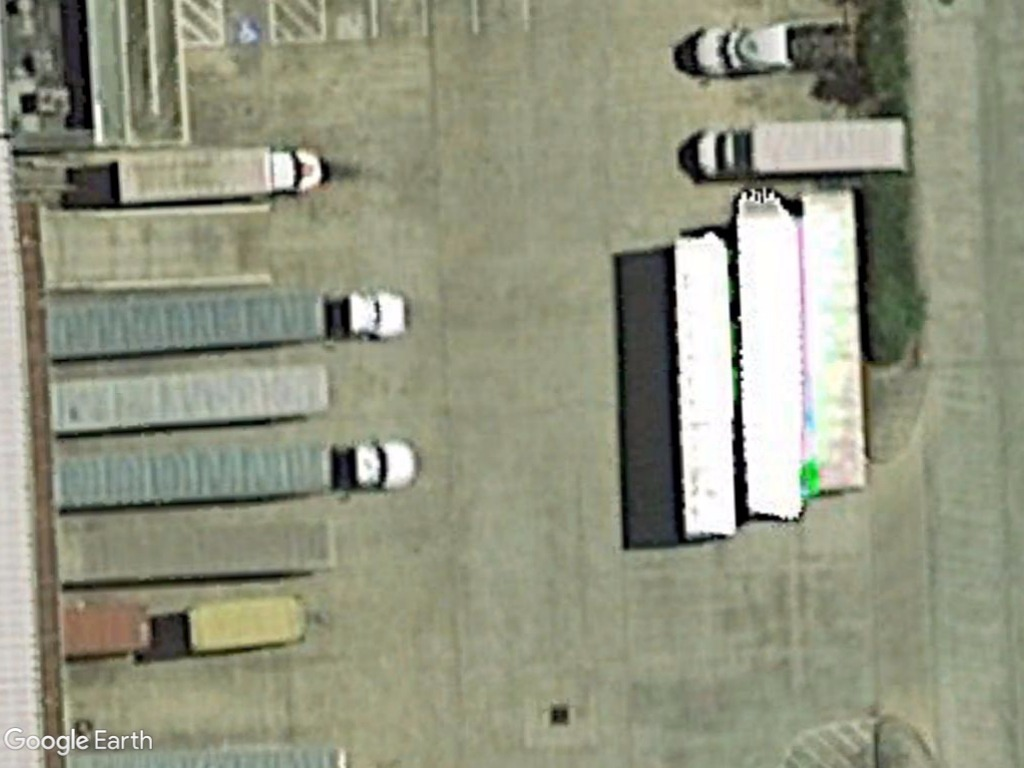longvehicle: (39, 278, 414, 367), (52, 431, 421, 514)
truck: (689, 113, 915, 184), (108, 144, 328, 205)
